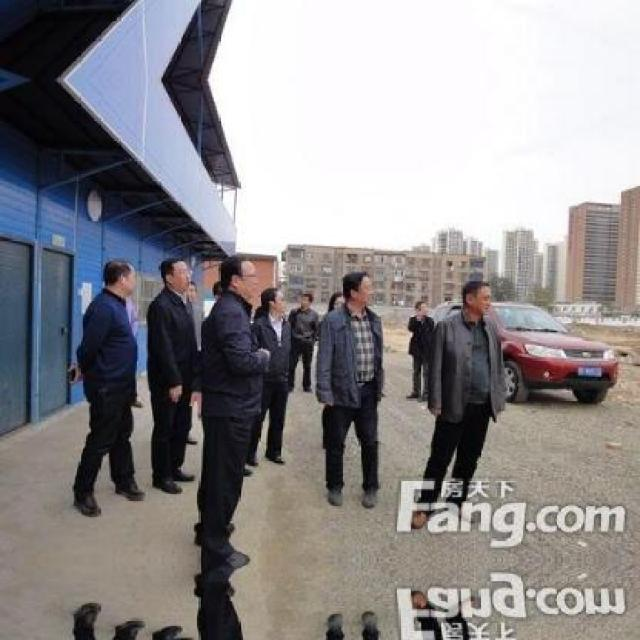nohelmet: (219, 254, 262, 302), (104, 259, 140, 299), (342, 272, 379, 310), (161, 257, 196, 293), (460, 280, 492, 316), (262, 287, 288, 318), (299, 290, 313, 310), (416, 298, 429, 318)
